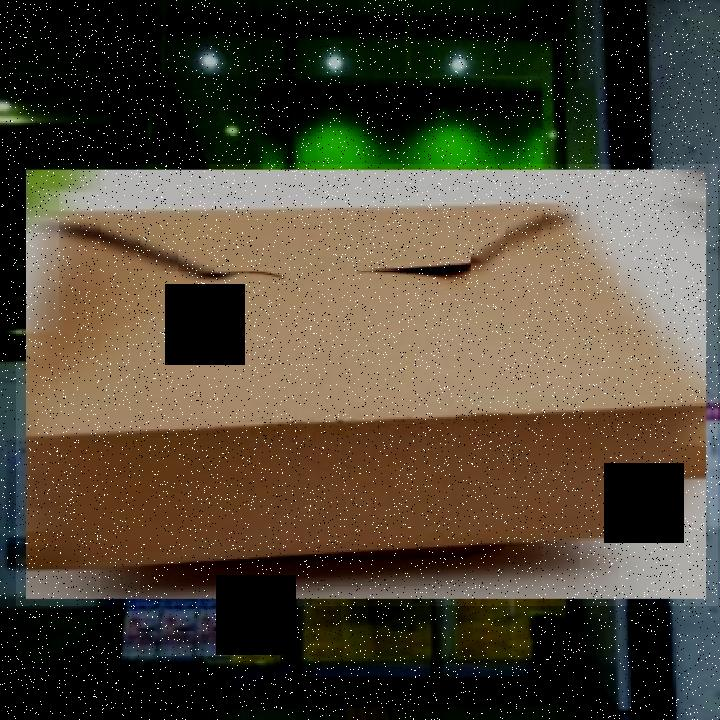box: (16, 164, 718, 606)
